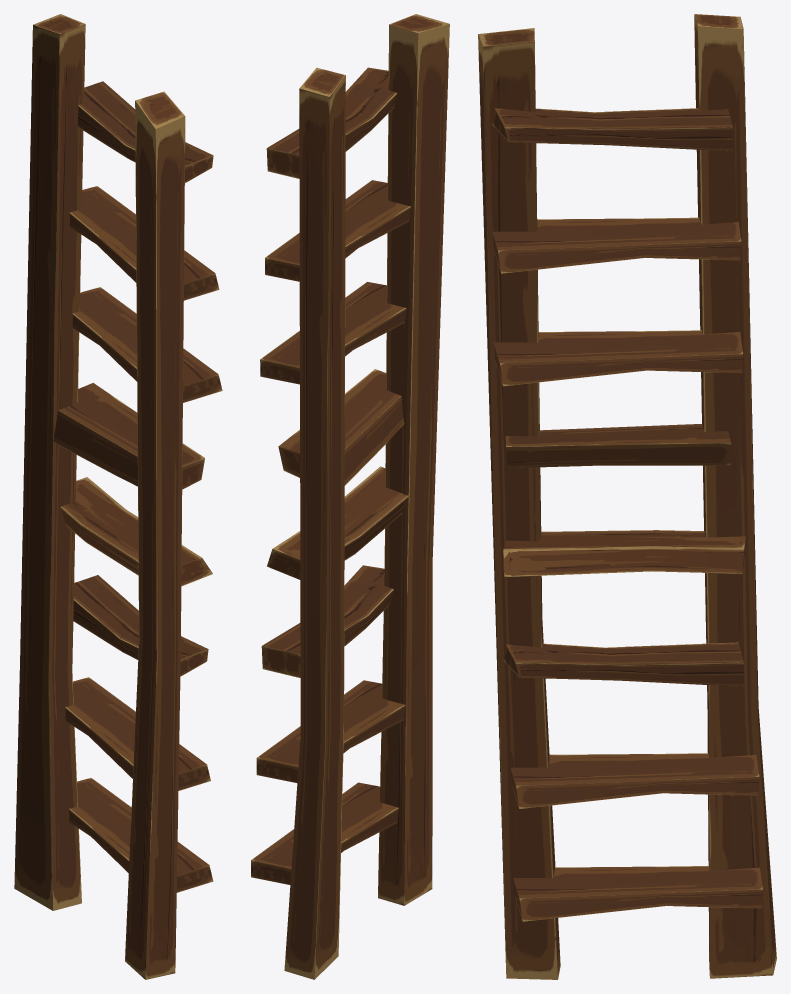
The model's file is SM_PROP_ladder_interior_02.fbx.
3 renders of one model, left to right at view 1: azimuth 30°, elevation 25°; view 2: azimuth 150°, elevation 25°; view 3: azimuth 270°, elevation 25°, orthographic. The views are drawn at different scales.
Visible parts, largest first — view 1: SM_PROP_ladder_interior_02; view 2: SM_PROP_ladder_interior_02; view 3: SM_PROP_ladder_interior_02.
Boxes of the visible parts, left/top/right/bottom form: SM_PROP_ladder_interior_02: left=14, top=14, right=222, bottom=979; SM_PROP_ladder_interior_02: left=251, top=14, right=449, bottom=979; SM_PROP_ladder_interior_02: left=478, top=14, right=776, bottom=979.
Size of the model in its own units: 24.71 by 249 by 70.89.
